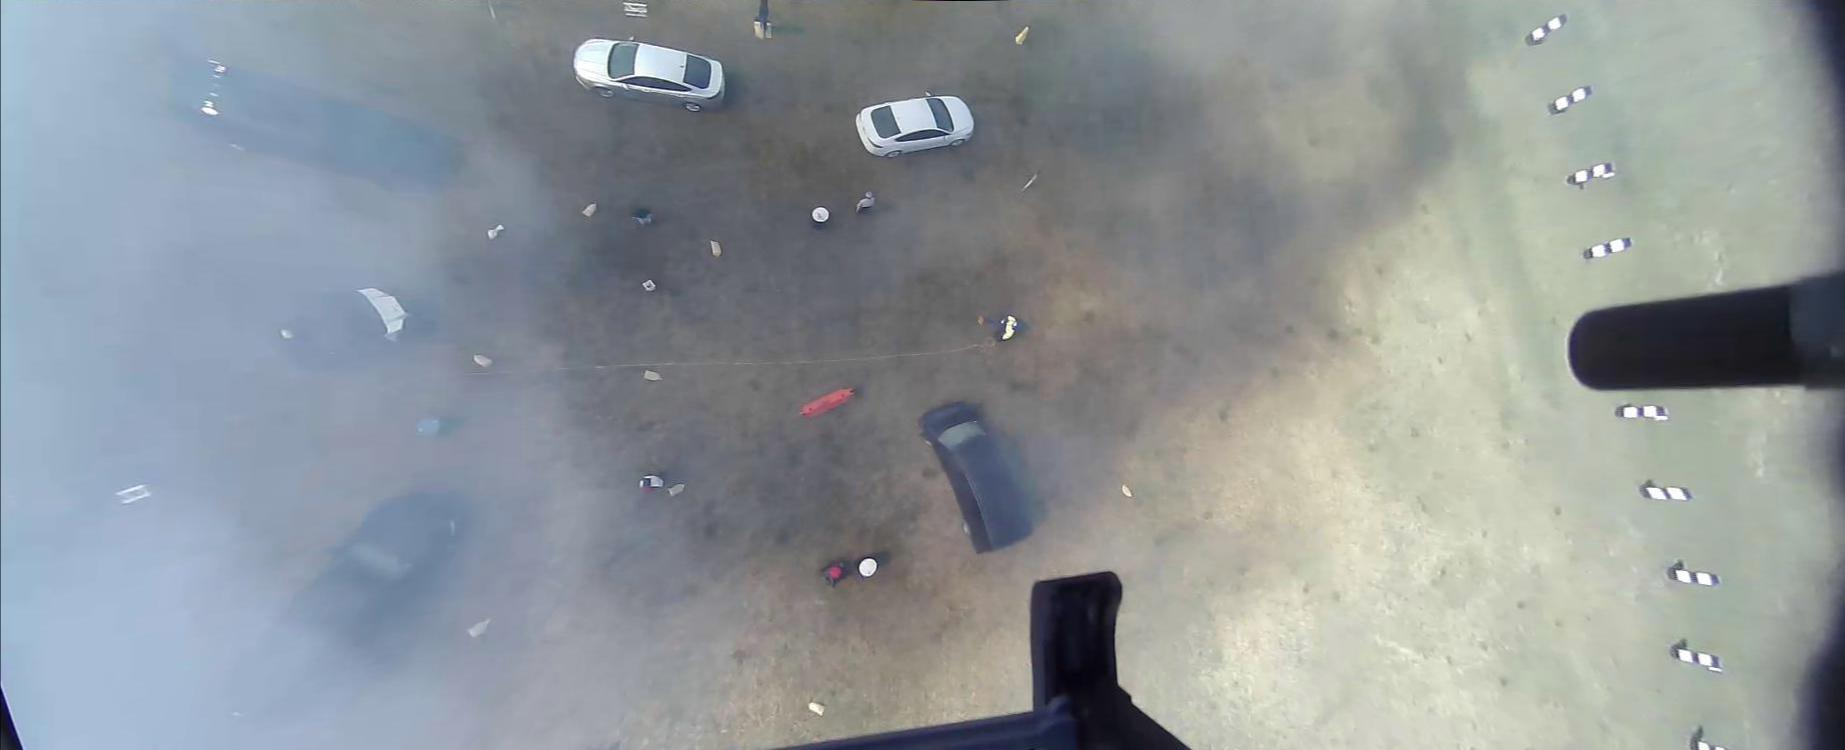vehicle: (217, 492, 468, 726), (164, 52, 438, 191), (917, 401, 1032, 555), (268, 286, 422, 373), (570, 35, 725, 113), (852, 89, 975, 159)
